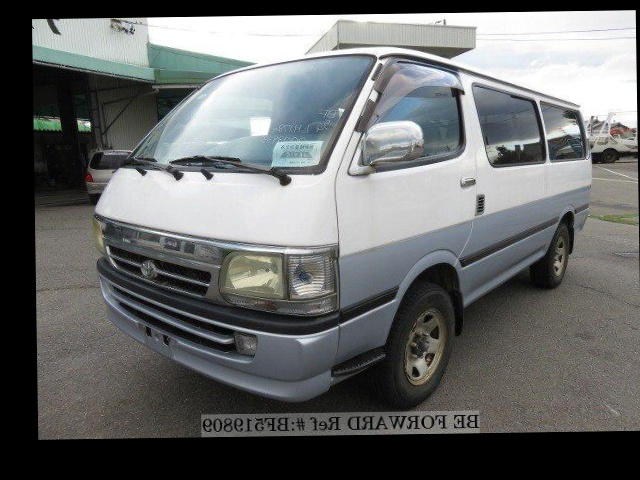van: (86, 50, 595, 401)
